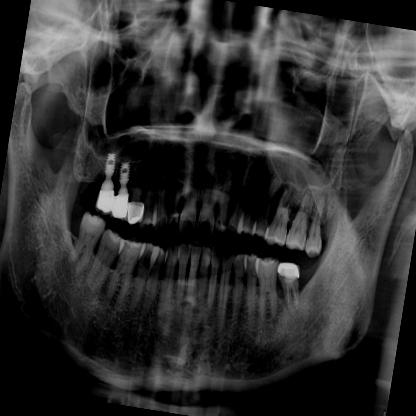Bicon: (101, 147, 117, 181), (115, 154, 132, 186)
